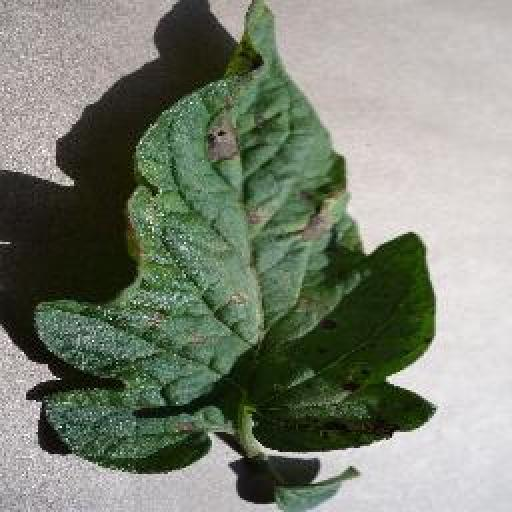Early Blight: (35, 0, 442, 472)
